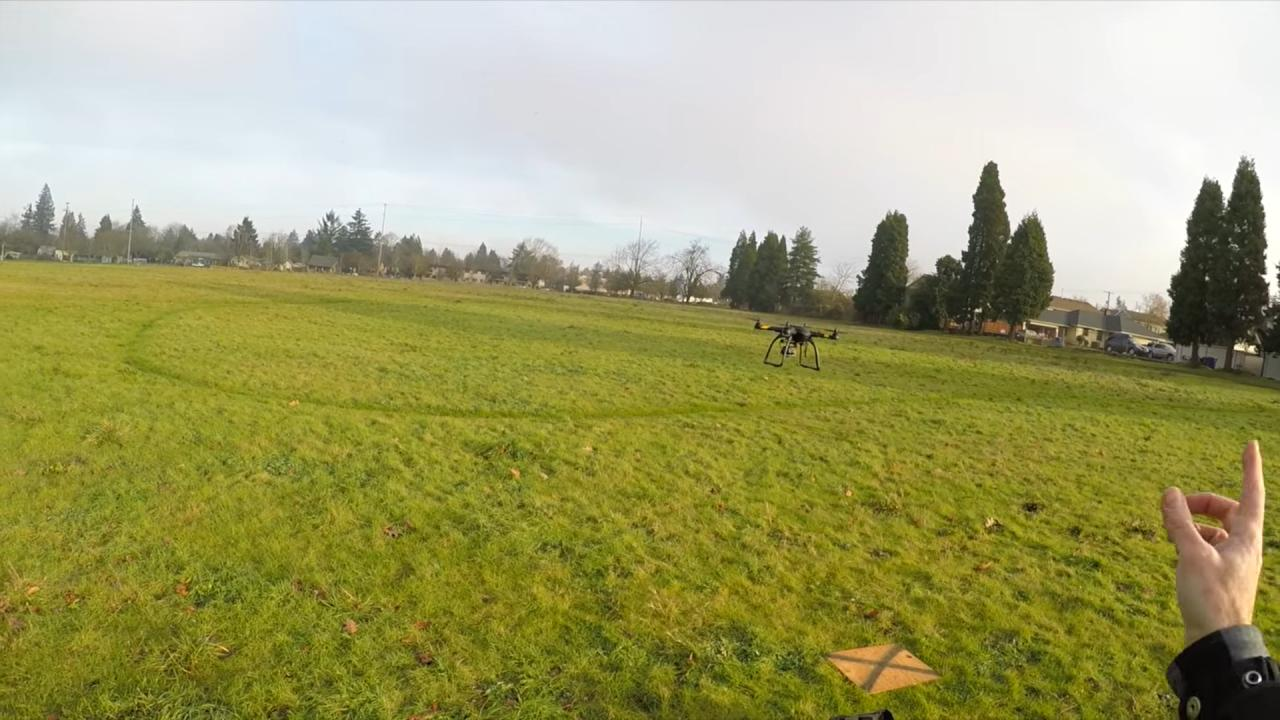Drone: (739, 314, 850, 381)
